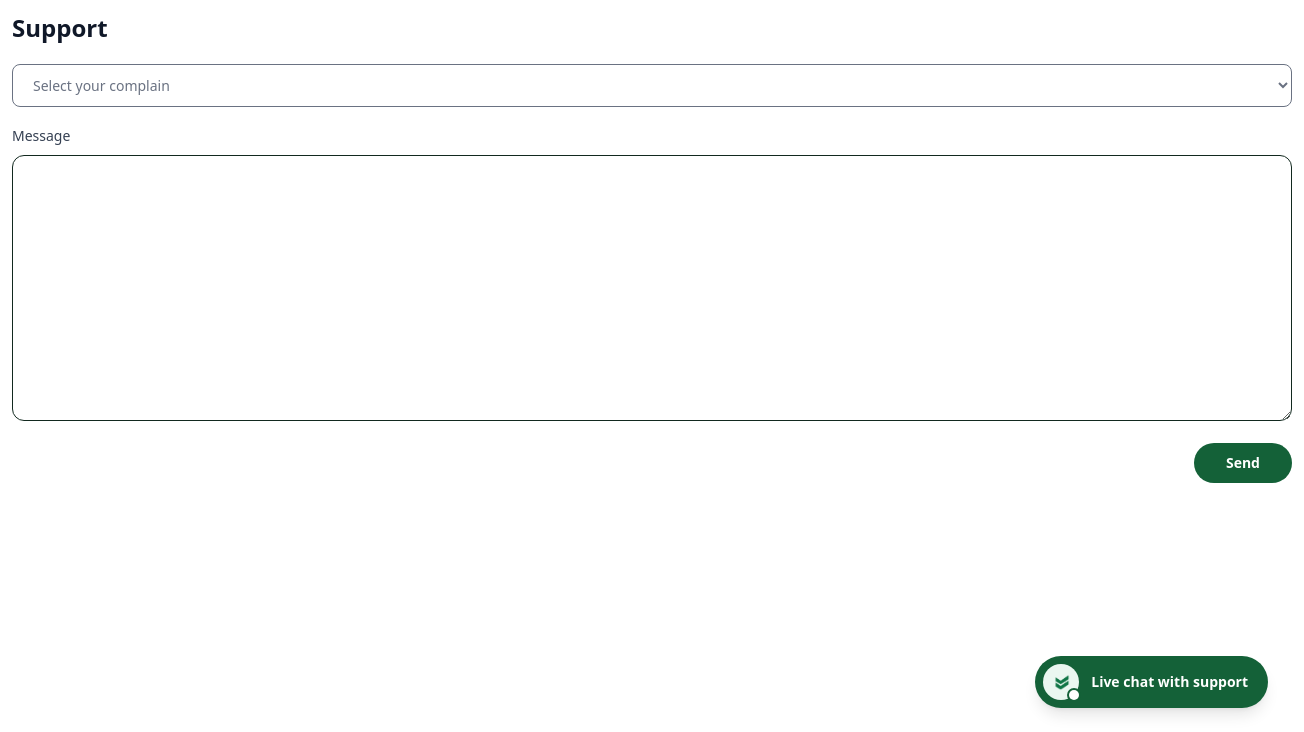
SupportPage live chat › prompts to start a conversation when there's no existing live ticket
The width and height of the screenshot is (1304, 732).
Step 1. Click the button with aria-label "Open live chat" → (1152, 682), box [1035,656,1268,708]
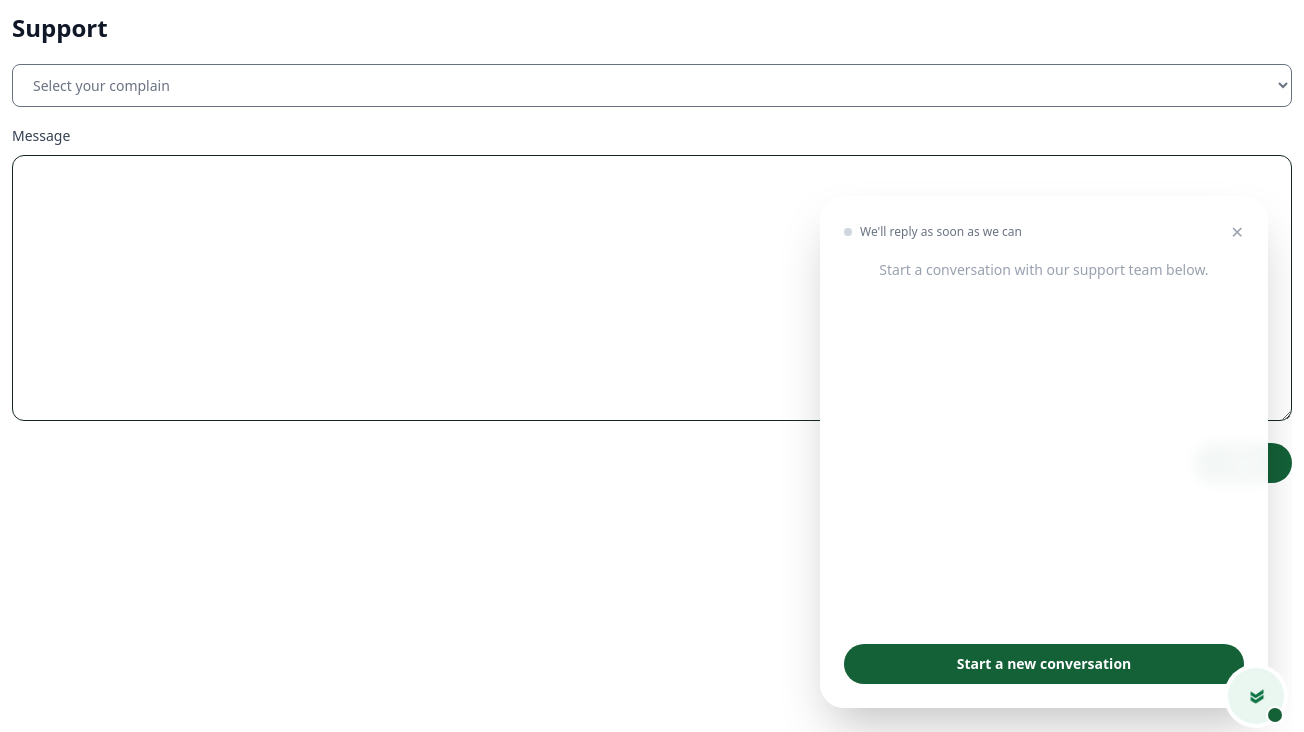
Expected: the text "Start a conversation with our support team below." is shown, [879,260,1209,279]
Expected: the button "Start a new conversation" is shown, [844,644,1244,684]
